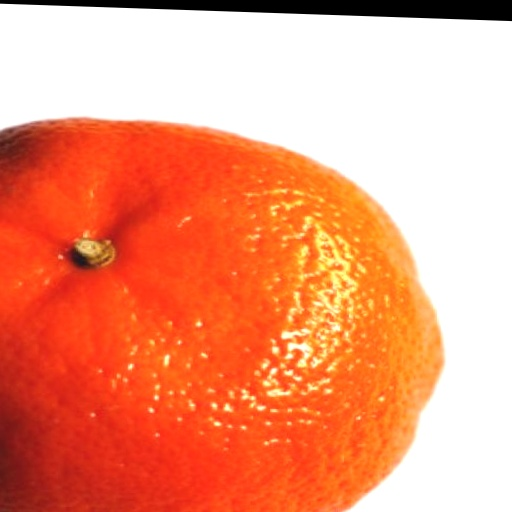fruit: (0, 119, 442, 512)
